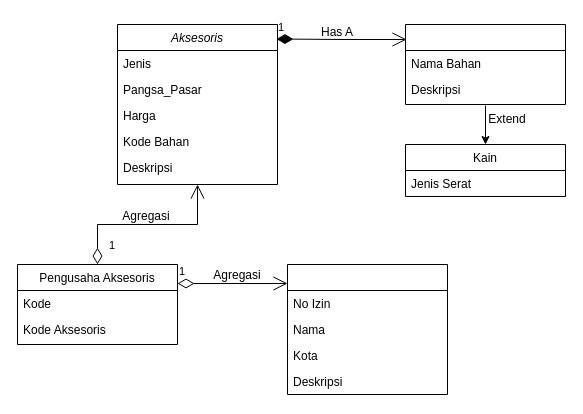
Some shapes in this 583 by 414 pixel diagram are drawn without their labels. The box of each missing label's shape, as (x1, y1, x2, y2) in pixels:
Bahan Aksesoris: (404, 24, 566, 104)
Industri Kreatif: (286, 264, 448, 394)
